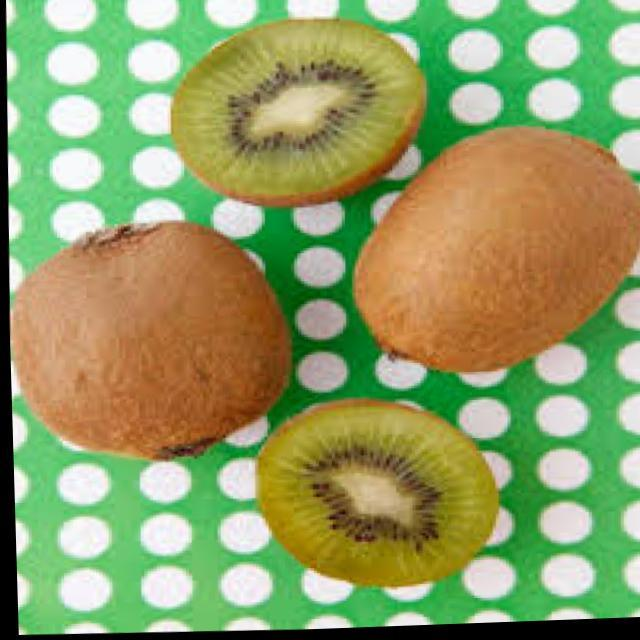kiwi: (345, 127, 640, 390), (10, 214, 292, 476)
